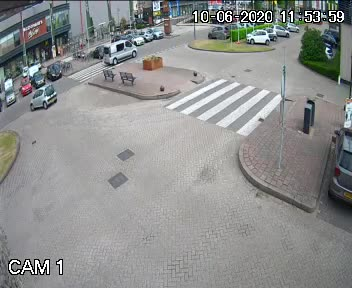car: (29, 79, 61, 110), (100, 39, 141, 63)
